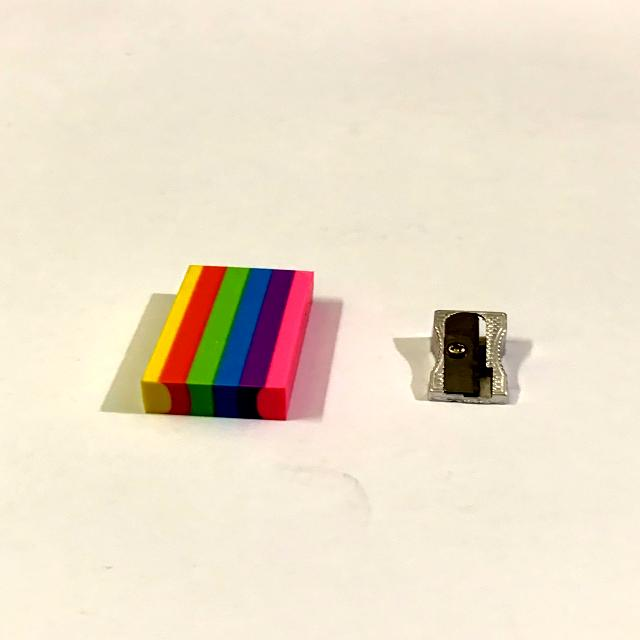Eraser: (114, 250, 363, 437)
Sharpner: (409, 293, 543, 425)
